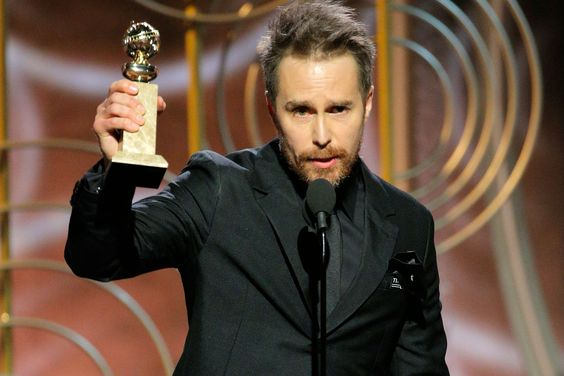hand: (97, 84, 158, 160)
